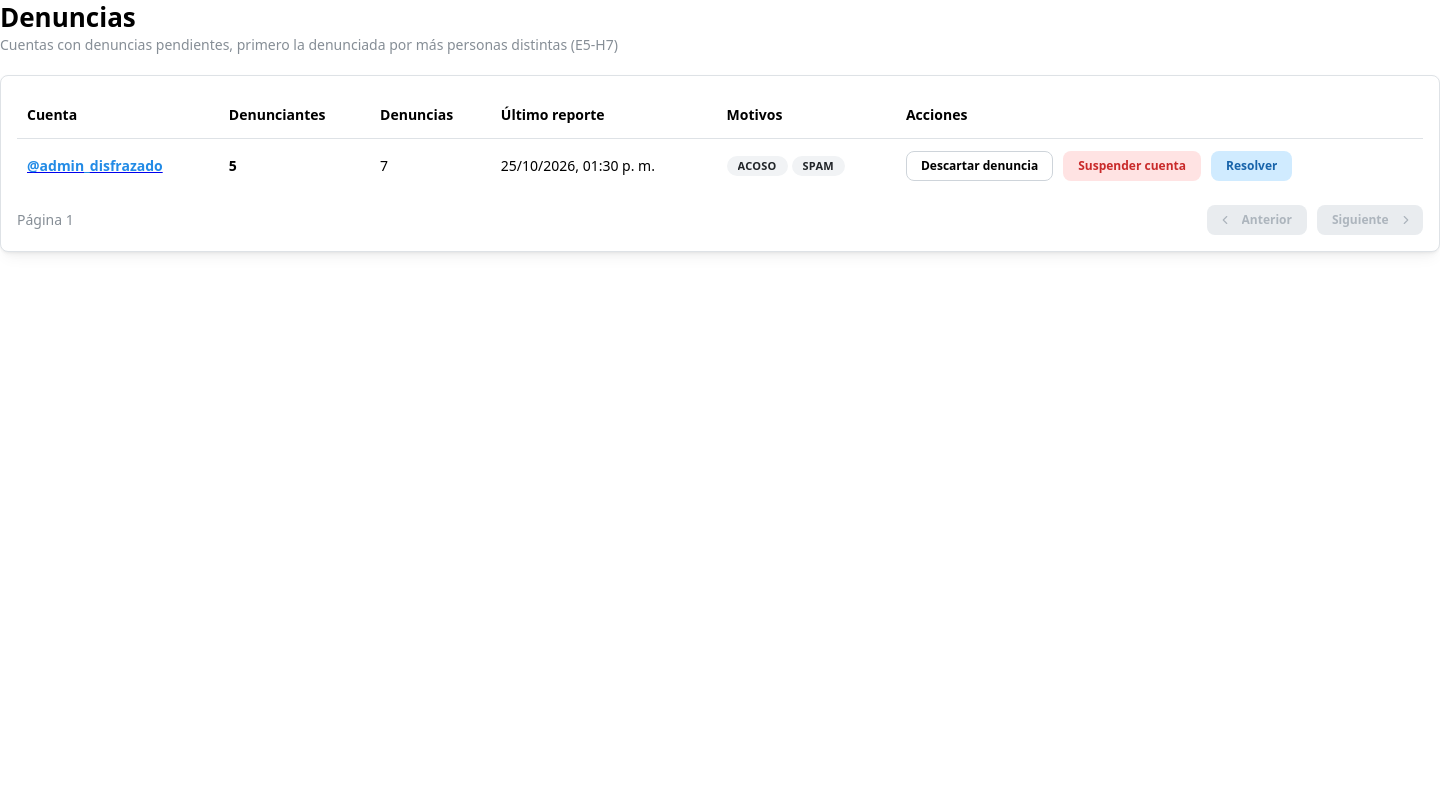
ModerationPage › E5-H7.CA2 - a failed block does not resolve the case
Click the button "Suspender cuenta" at (1132, 166), box [1063, 151, 1201, 181]
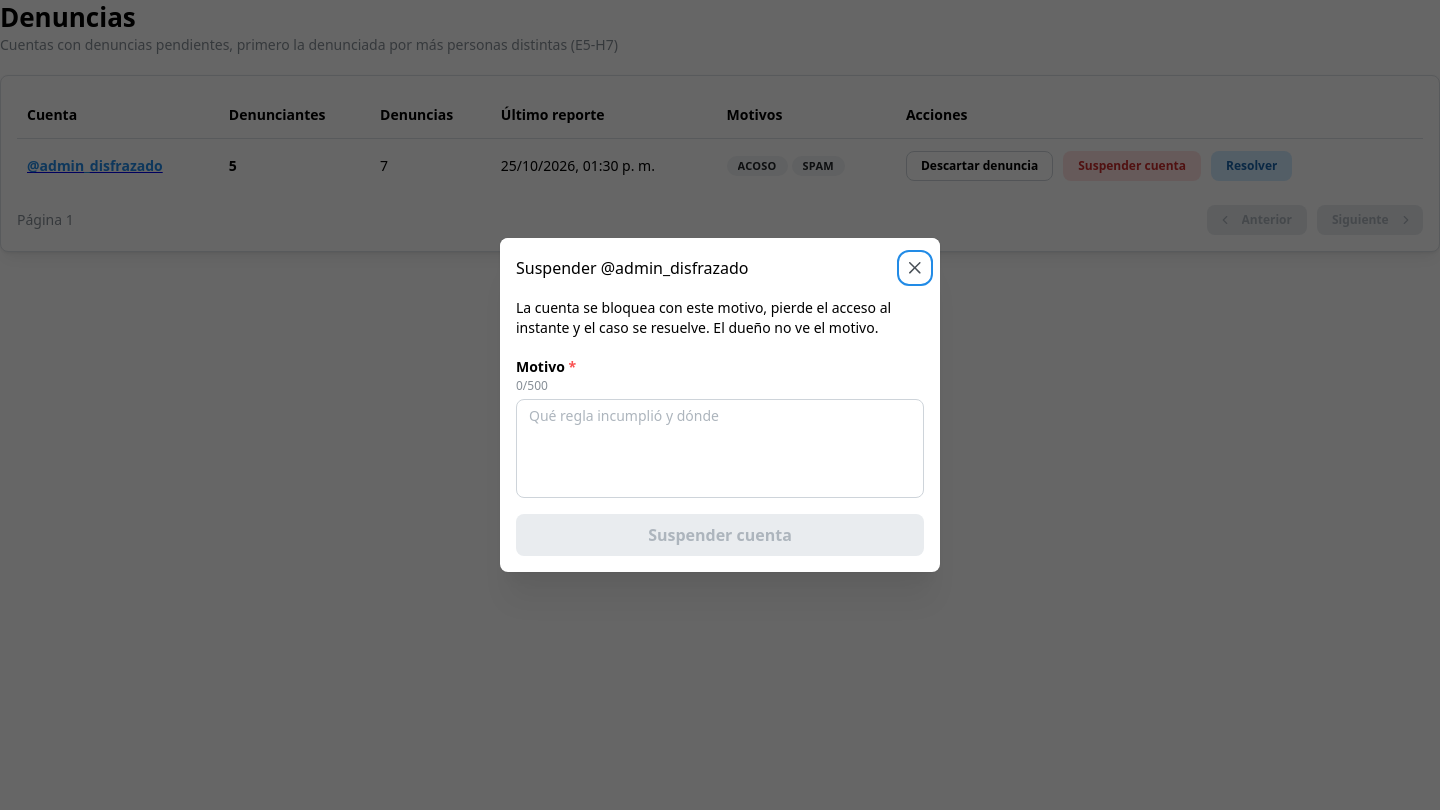
Type "Spam" into the text box labelled "Motivo *" at (720, 448), box [516, 398, 924, 498]
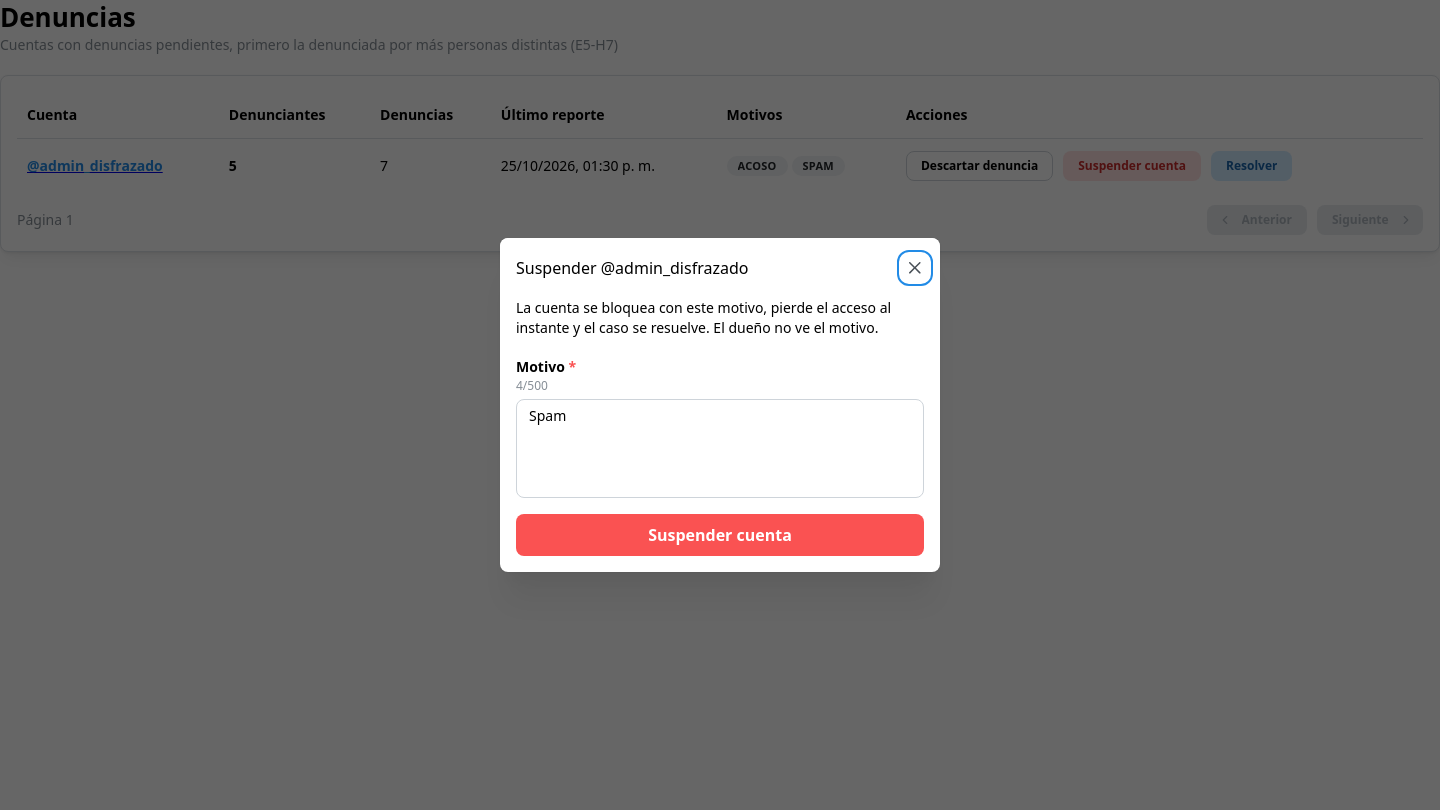
Click the button "Suspender cuenta" at (720, 535), box [516, 514, 924, 556]
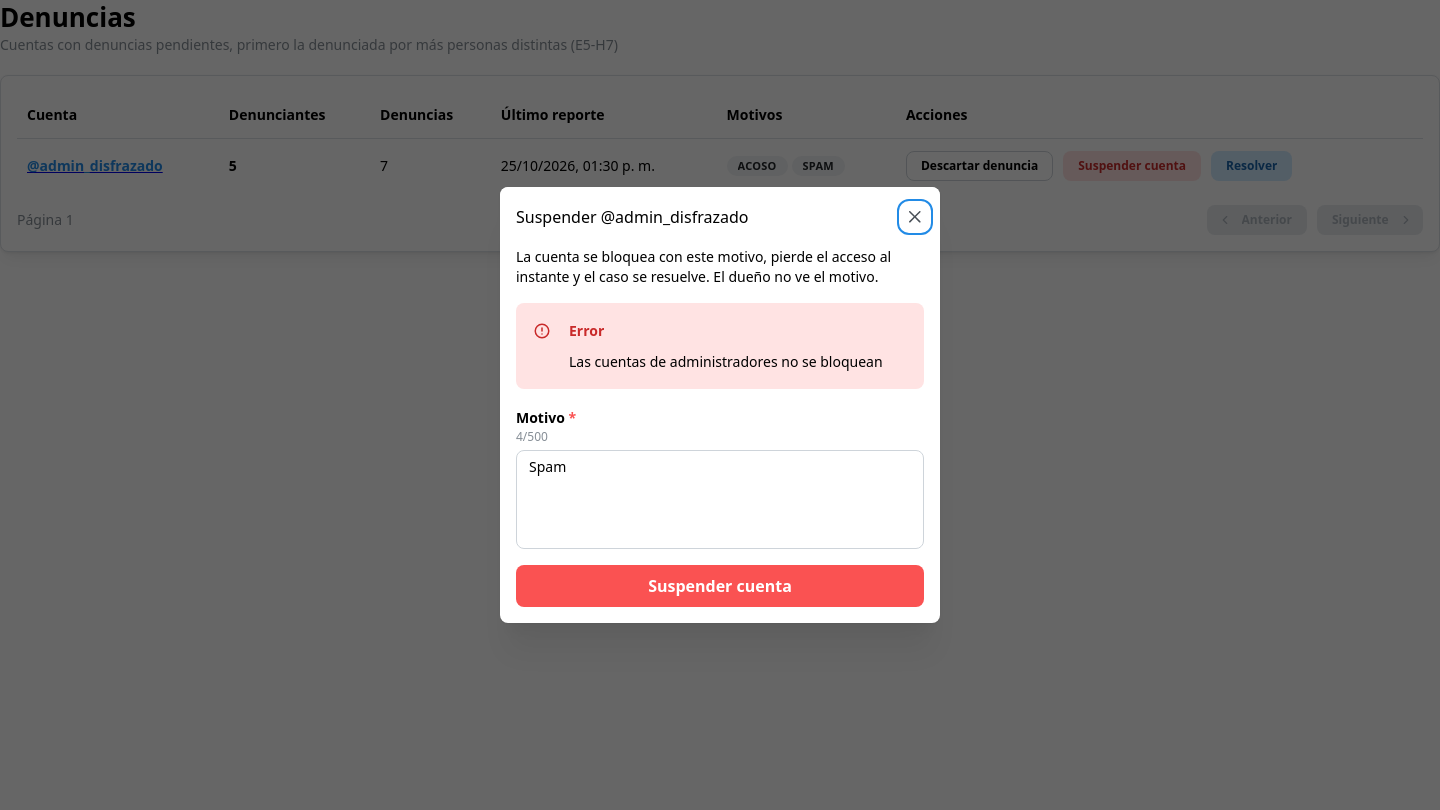
Expected: the text "@admin_disfrazado" is shown, [27, 156, 209, 176]
Expected: the text "Las cuentas de administradores no se bloquean" is shown, [569, 352, 907, 372]
